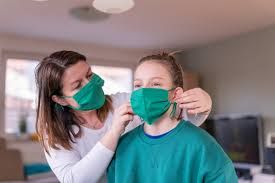with-mask: (128, 57, 188, 126), (49, 55, 111, 119)
